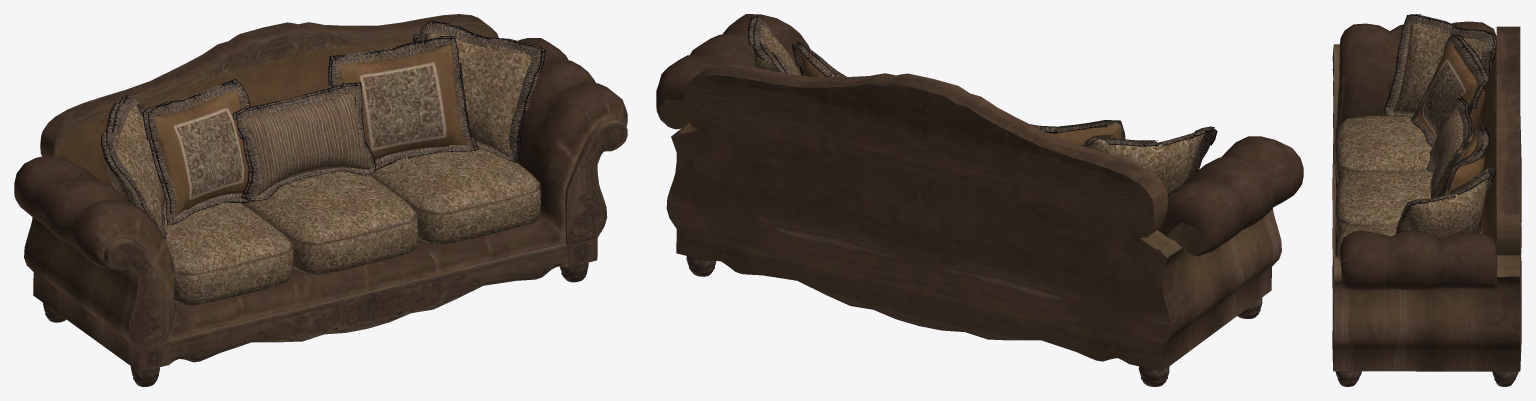
Rendered from sofa_03.glb.
3 views of the same model, side by side, from view 1: azimuth 30°, elevation 25°; view 2: azimuth 150°, elevation 25°; view 3: azimuth 270°, elevation 25° (orthographic). The views are drawn at different scales.
Visible parts, largest first — view 1: sofa_03; view 2: sofa_03; view 3: sofa_03.
Part boxes in pixels (x1=…): sofa_03: x1=14, y1=14, x2=627, y2=386; sofa_03: x1=656, y1=14, x2=1303, y2=386; sofa_03: x1=1332, y1=14, x2=1521, y2=386.
Bounding box in the file's own units: 2.73 × 1.12 × 0.9251.
Materials: 2 (2 with a texture image).
